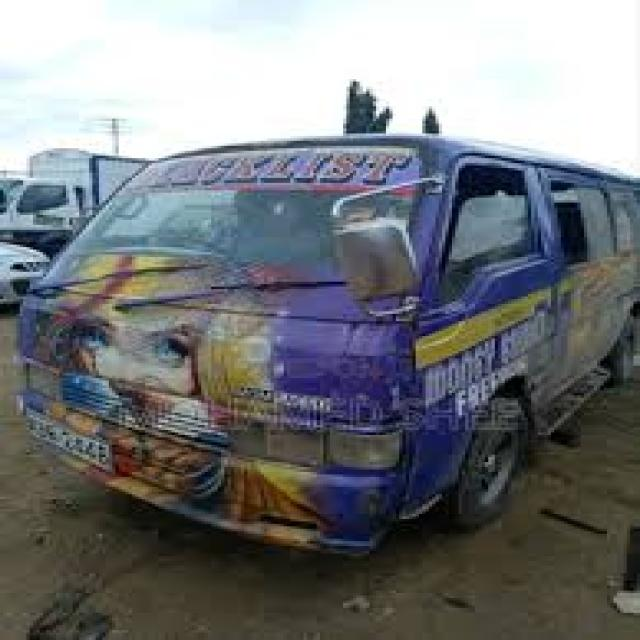matatu: (6, 76, 640, 557)
